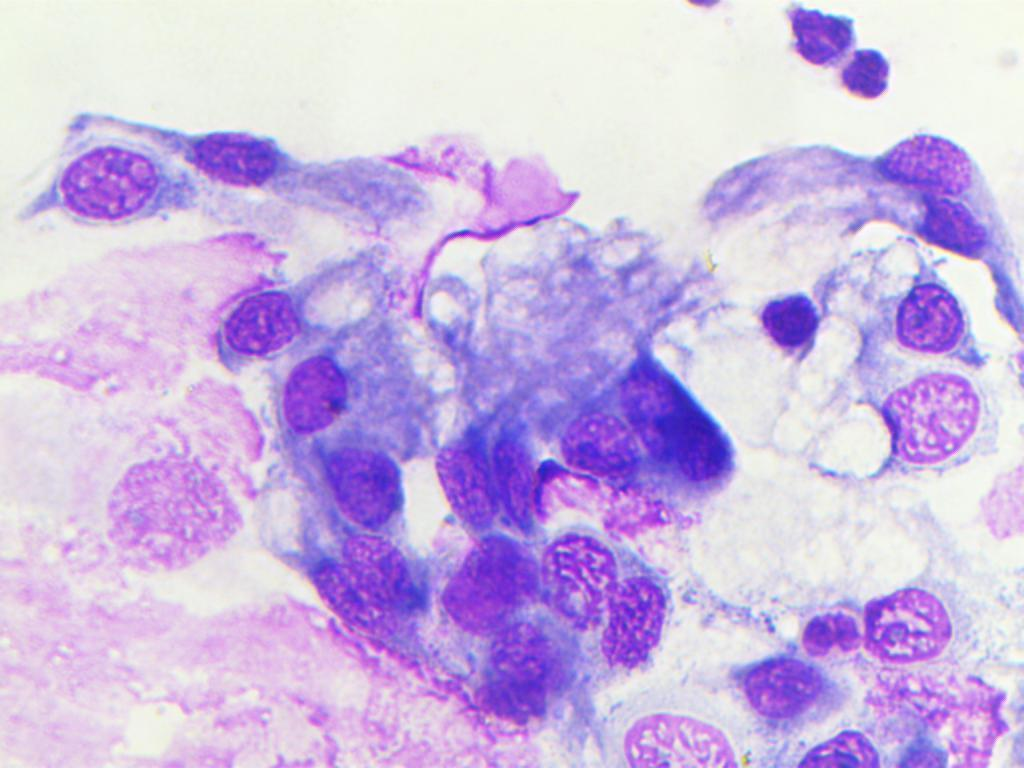artifact: (87, 446, 258, 573)
epithelial: (584, 326, 746, 496), (2, 136, 203, 226), (430, 624, 571, 733), (591, 563, 694, 678), (543, 380, 650, 480), (429, 529, 531, 633), (540, 527, 622, 632), (327, 523, 420, 608), (618, 706, 742, 768), (857, 581, 947, 661), (740, 653, 836, 720), (431, 430, 494, 525), (891, 268, 965, 345)
goblet_cell: (683, 126, 981, 231), (793, 355, 1002, 490), (183, 128, 431, 233), (215, 275, 410, 375), (778, 188, 988, 266), (278, 333, 422, 442), (276, 430, 426, 527)
neutrophil: (780, 10, 927, 102), (746, 286, 827, 365), (793, 601, 862, 662)
